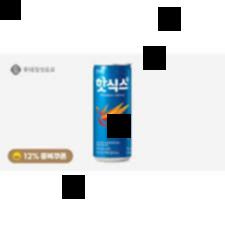hotsix_org: (93, 64, 133, 163)
